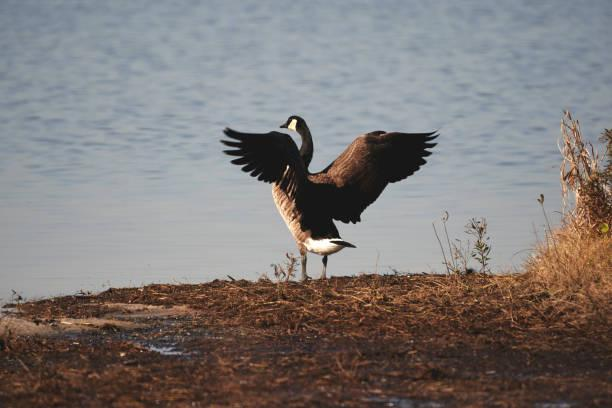Canadian-Goose: (223, 111, 434, 275)
